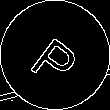P_NE: (25, 24, 85, 86)
